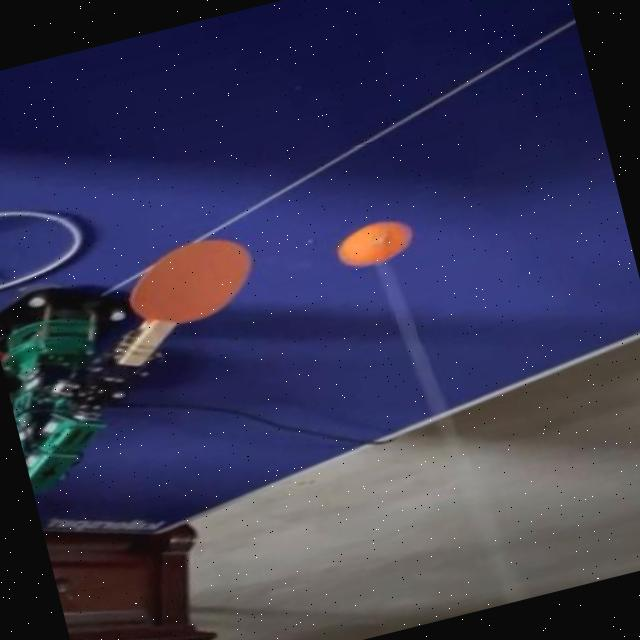ping-pong-ball: (339, 220, 406, 269)
